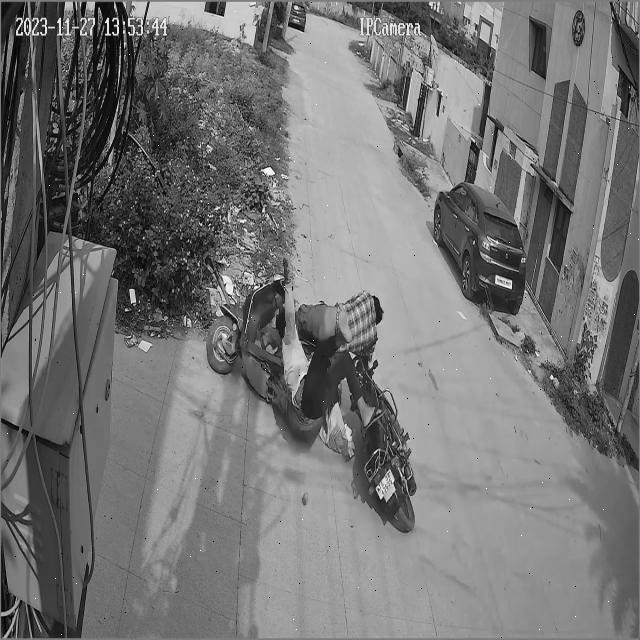accident: (206, 263, 415, 537)
